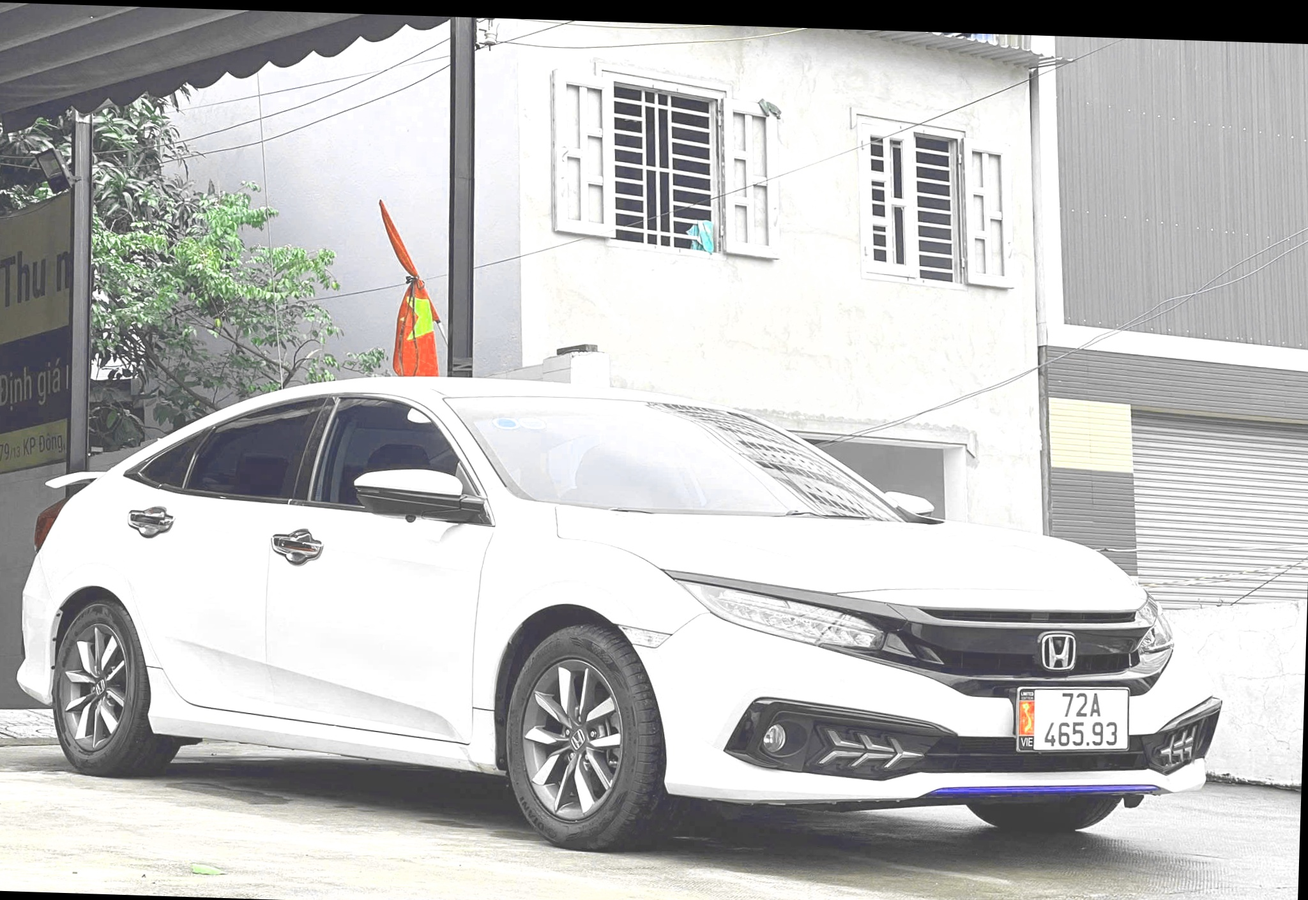Bien-so: (1040, 622, 1155, 713)
